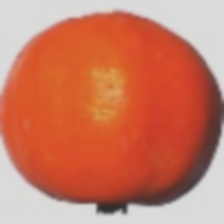tangerine: (27, 50, 205, 205)
